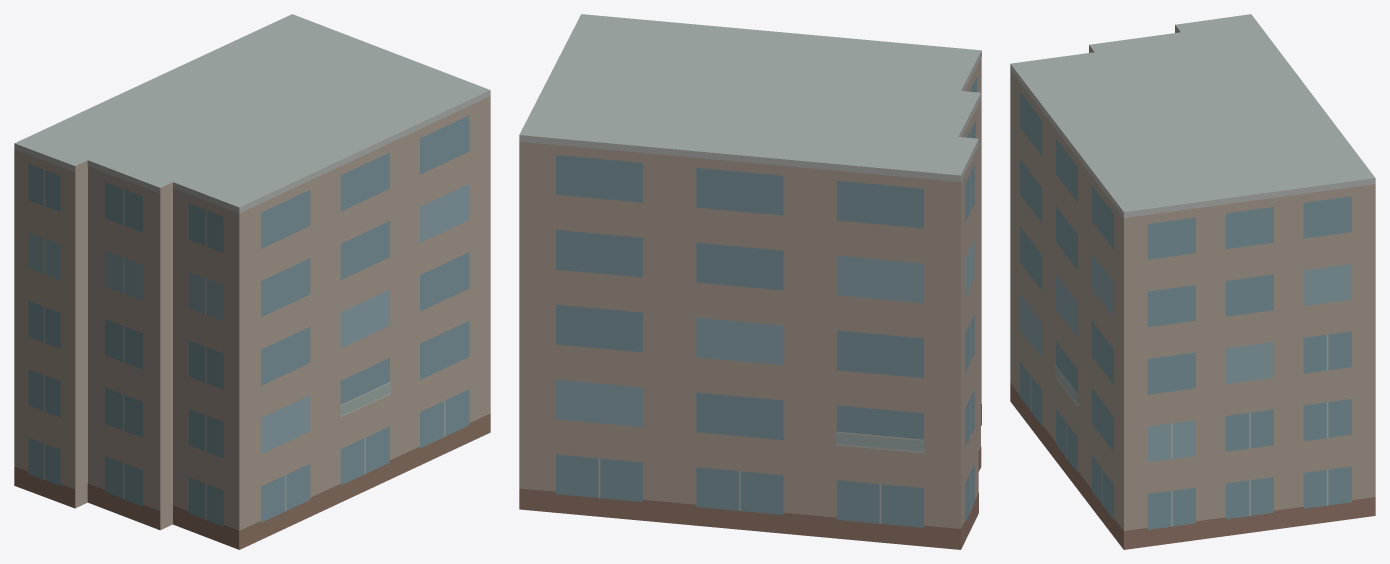
The model's file is survey-upis-33021829.glb.
3 views of the same model, side by side, from view 1: azimuth 30°, elevation 25°; view 2: azimuth 150°, elevation 25°; view 3: azimuth 270°, elevation 25° (orthographic). The views are drawn at different scales.
Visible parts, largest first — view 1: survey-upis-33021829.tmp; view 2: survey-upis-33021829.tmp; view 3: survey-upis-33021829.tmp.
Part boxes in pixels (left/top/right/bottom): survey-upis-33021829.tmp: left=14, top=14, right=490, bottom=549; survey-upis-33021829.tmp: left=519, top=14, right=981, bottom=549; survey-upis-33021829.tmp: left=1010, top=14, right=1375, bottom=549.
Bounding box in the file's own units: 17.51 × 13.9 × 13.64.
